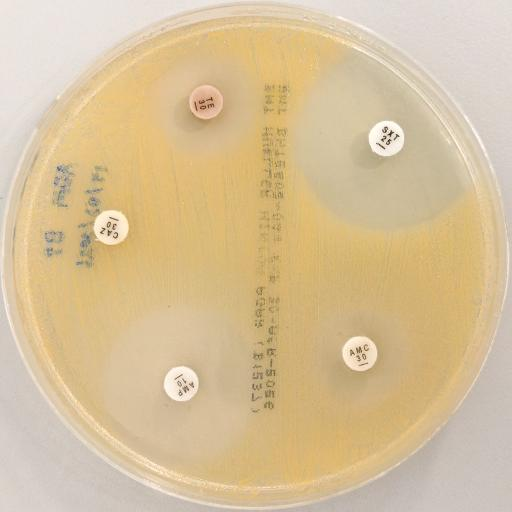disc: (368, 120, 404, 156), (188, 85, 224, 120), (94, 210, 130, 245), (342, 336, 378, 371), (164, 366, 200, 401)
